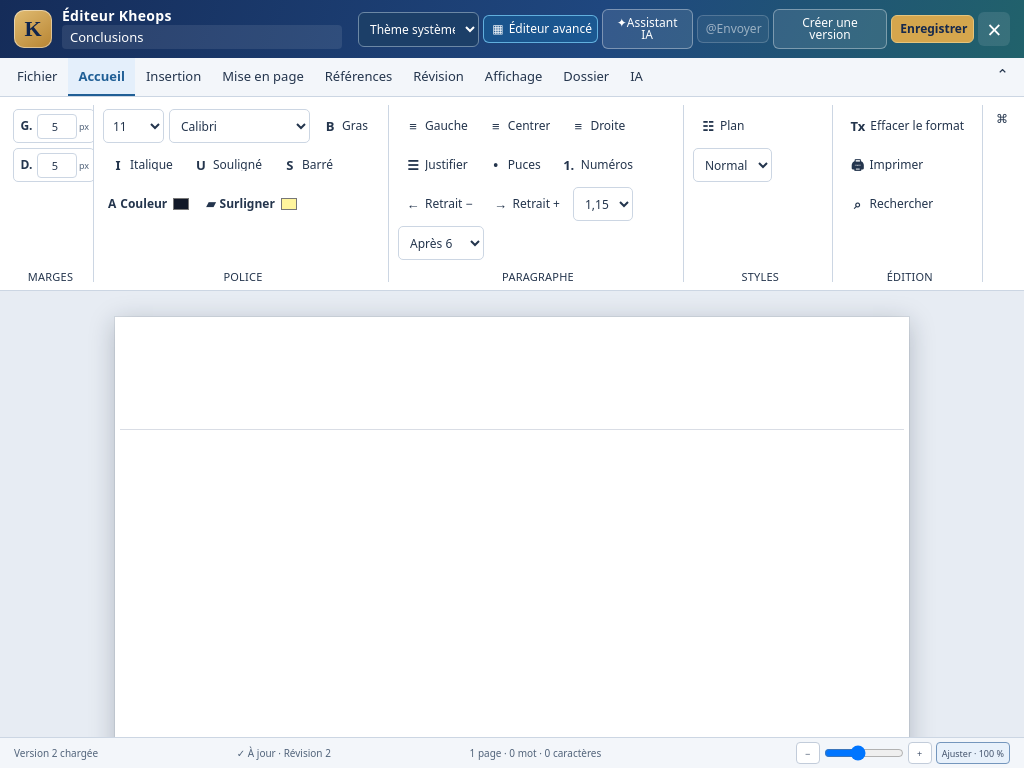
Test case: KheopsDocumentEditor › reste dans l’éditeur classique si la copie canonique ne peut pas être synchronisée
Click the button with aria-label "Ouvrir dans l’éditeur avancé": (540, 29) [483,15,598,43]
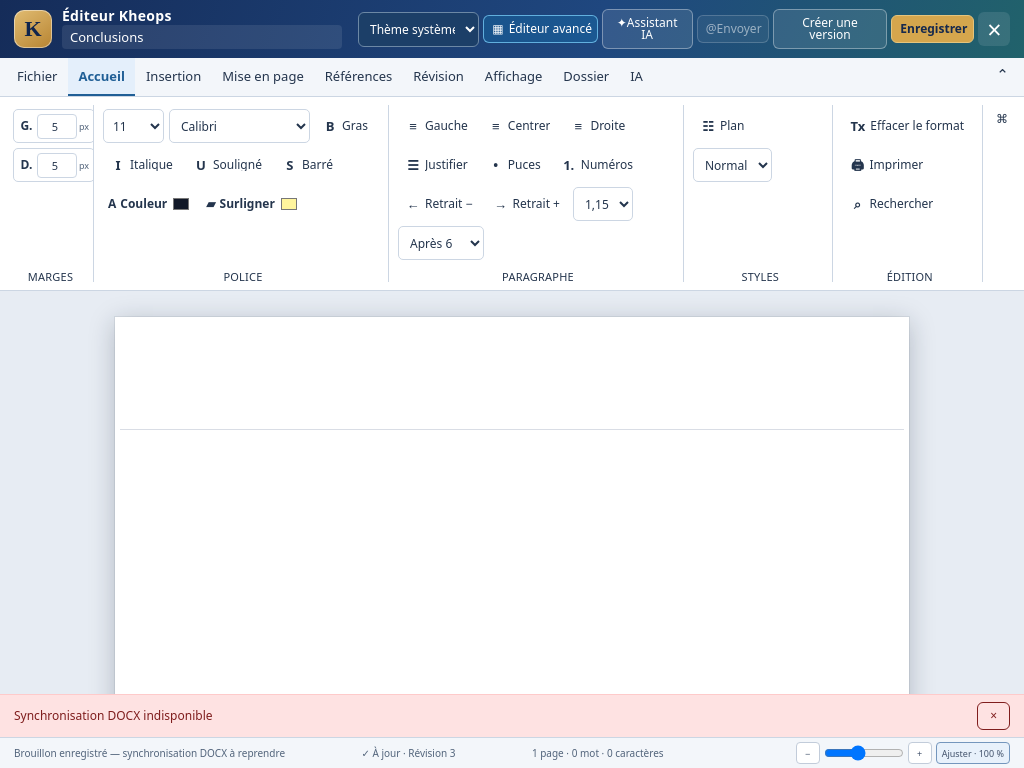
Now the text "Synchronisation DOCX indisponible" is shown, box [14,710,212,722]
